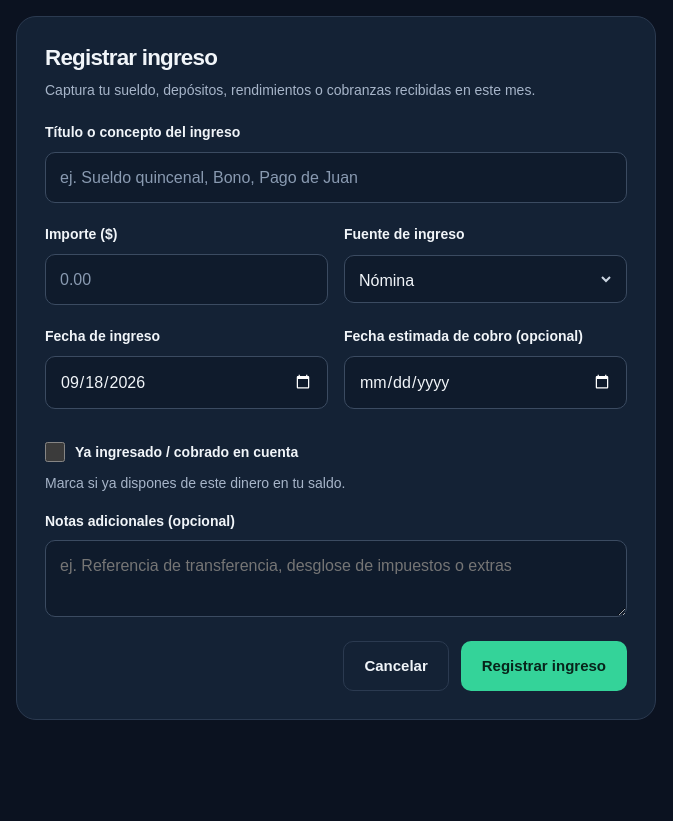
Test: IncomeForm › validates positive amount and title
The image size is (673, 821).
Type "Ingreso prueba" into the field labelled "Título o concepto del ingreso" at (336, 177), box [45,152,627,203]
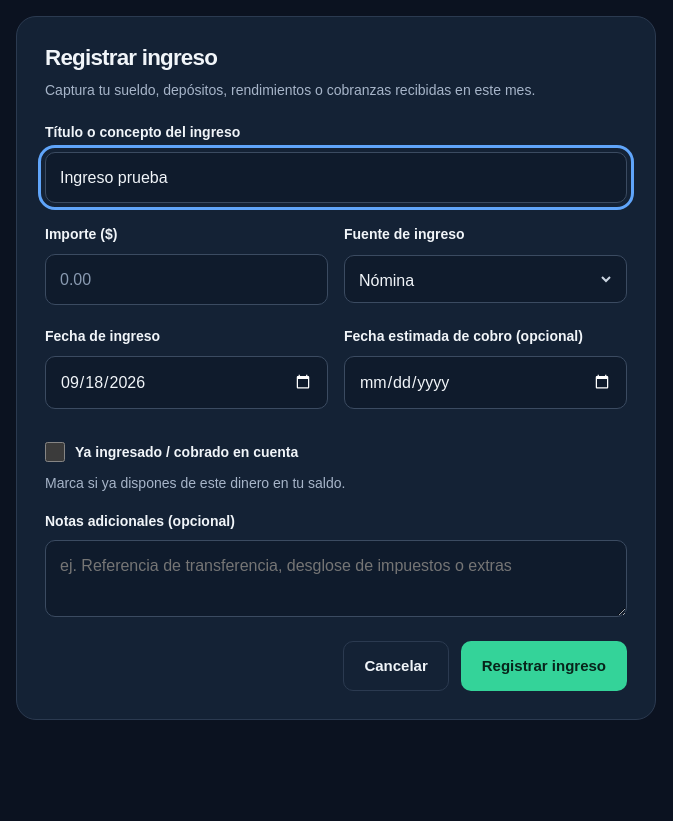
Type "0" into the field labelled "Importe ($)" at (186, 279), box [45,254,328,305]
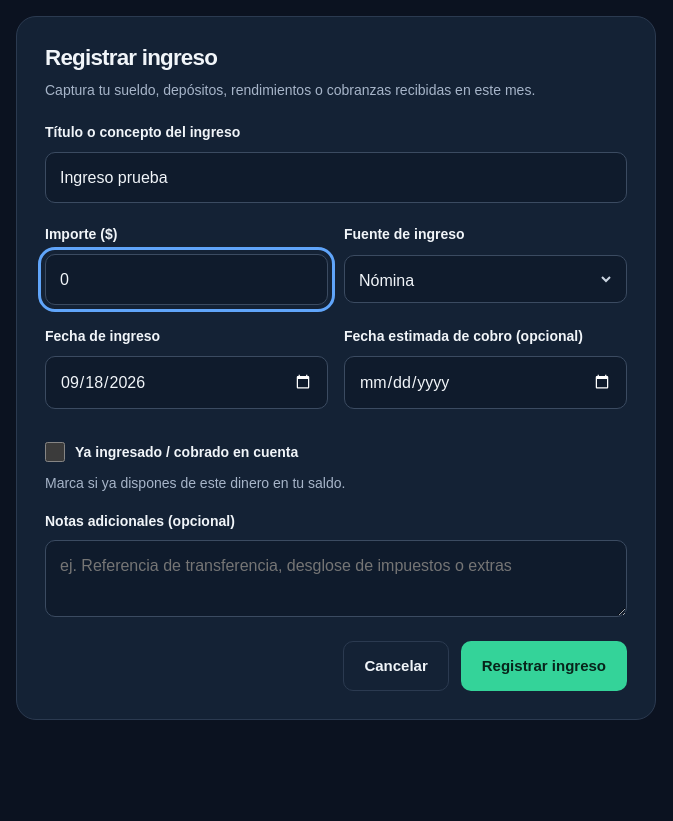
Click the button "Registrar ingreso" at (544, 666), box [461,642,627,692]
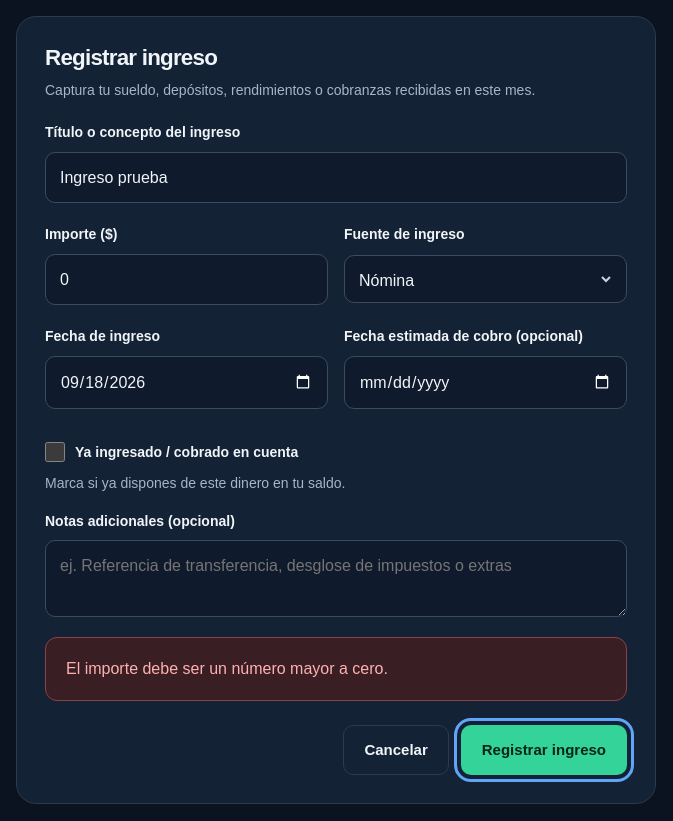
Now the text "El importe debe ser un número mayor a cero." is shown, box [66,660,388,678]
